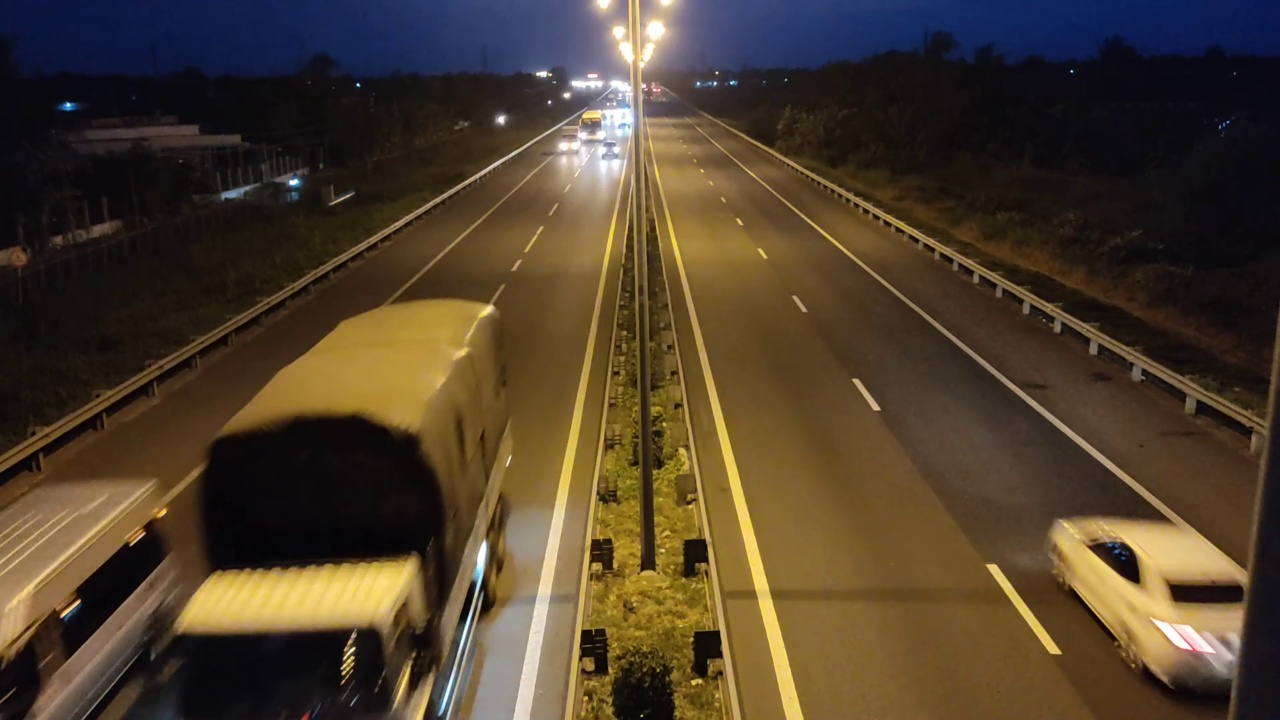car: (1044, 514, 1248, 698)
truck: (121, 291, 515, 715)
